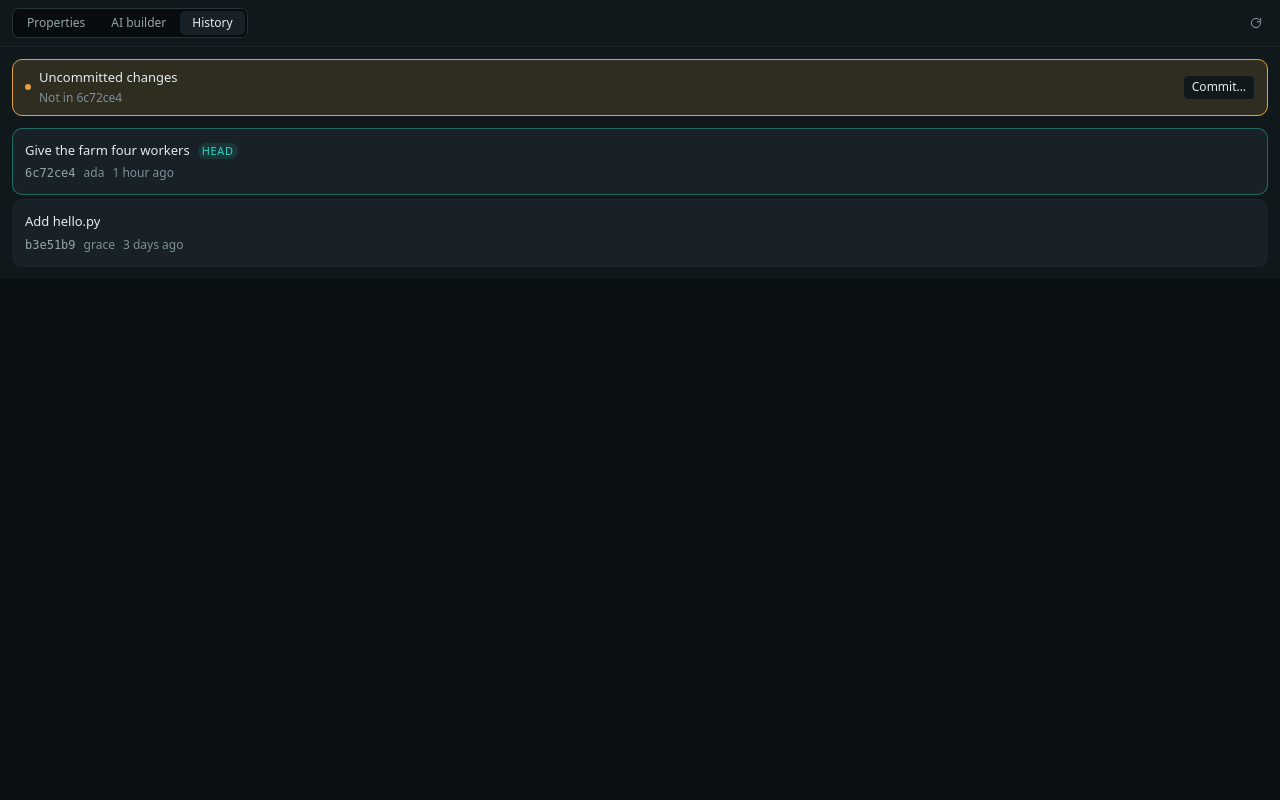
Scenario: the History tab › restores a version after a confirmation, and says it is not committed
Click the button "Add hello.py b3e51b9 grace 3 days ago".
click(63, 221)  # box [12,199,1268,266]
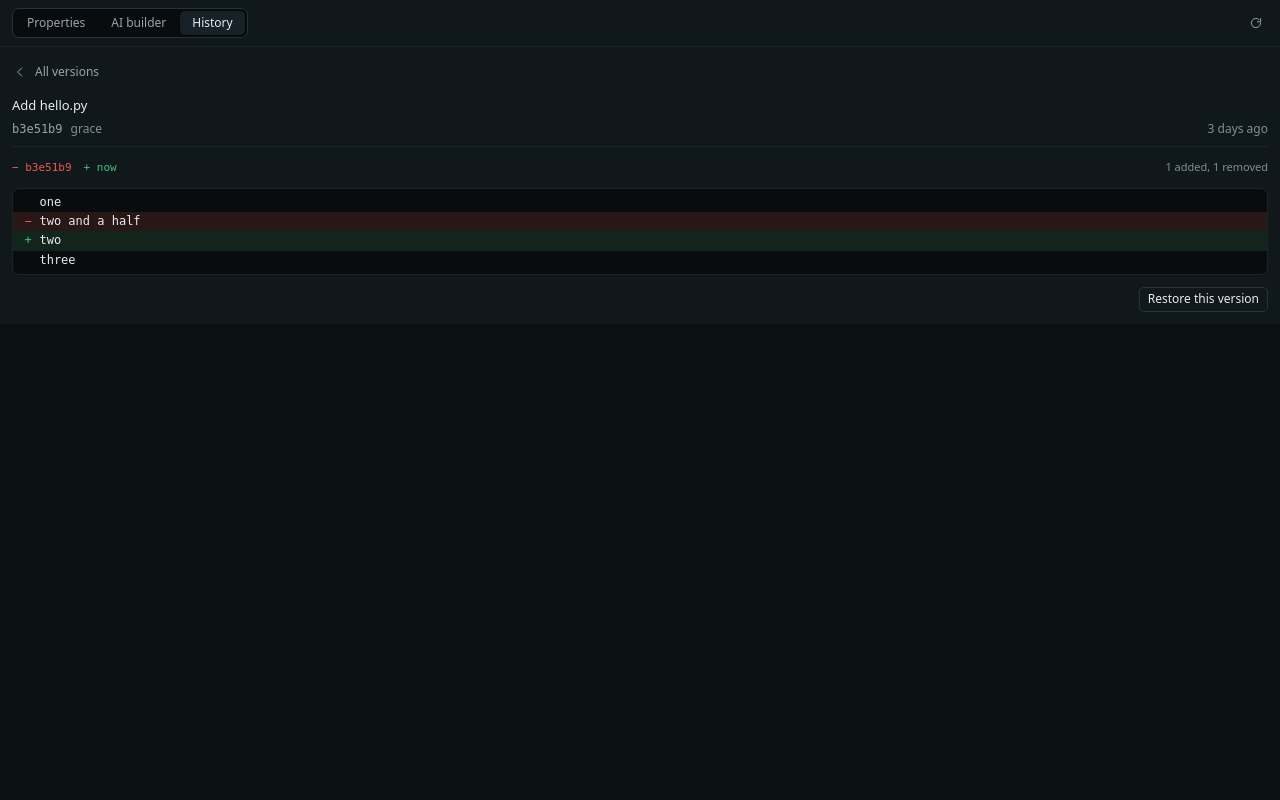
Click the button "Restore this version".
click(1203, 299)  # box [1139,287,1268,312]
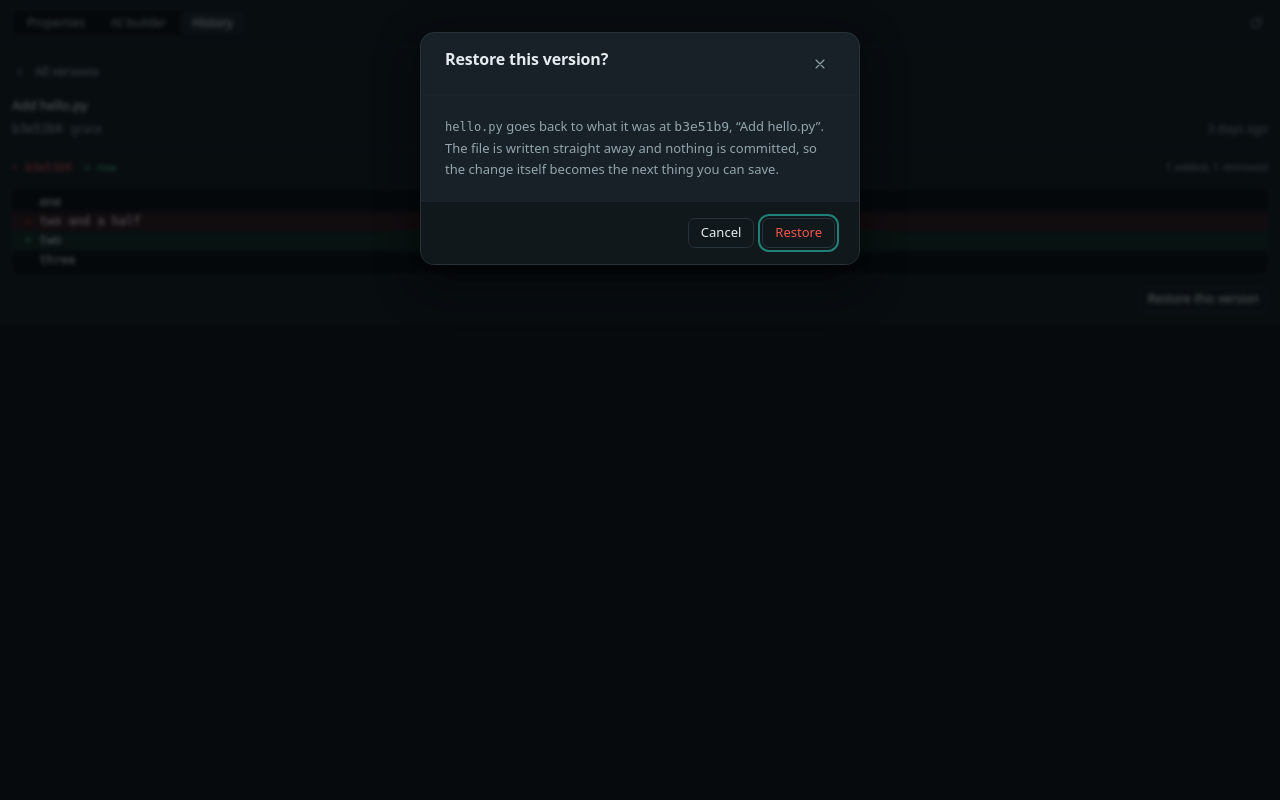
Click the button "Restore".
click(799, 233)  # box [762,218,835,248]
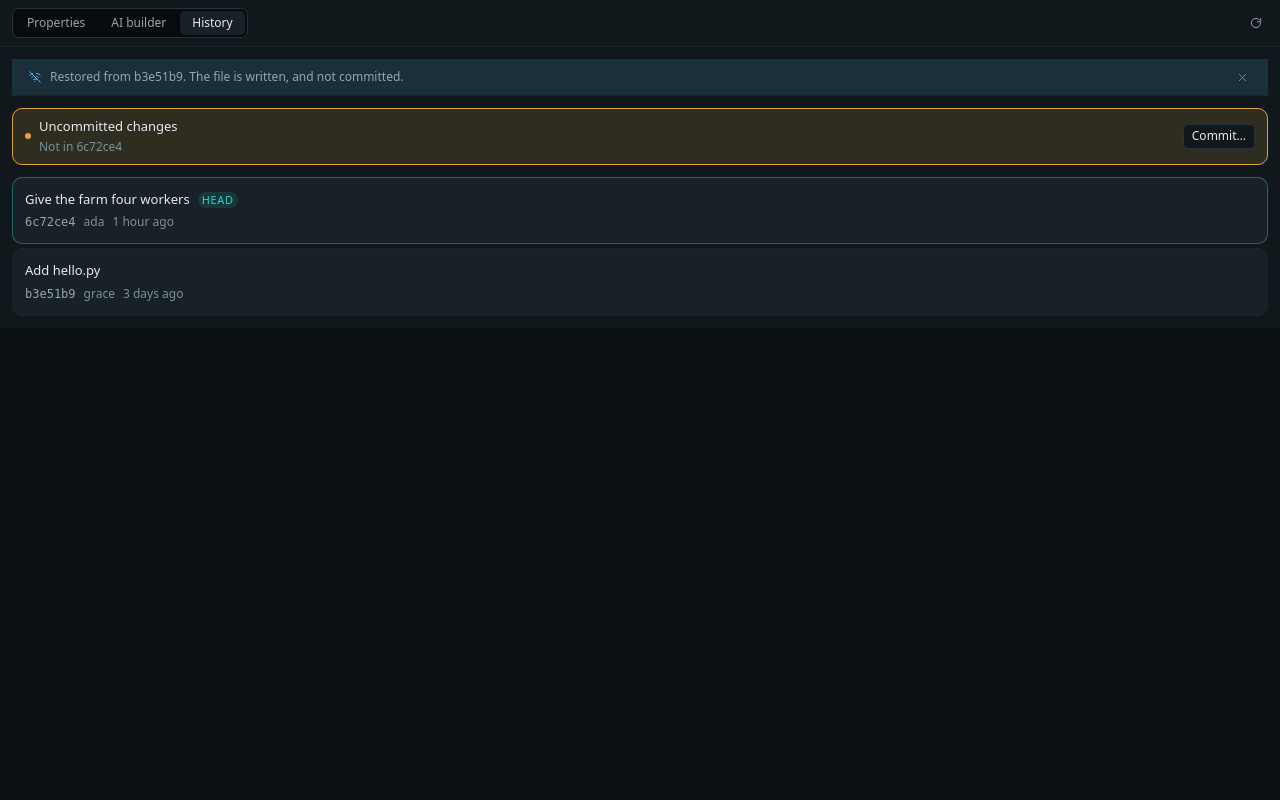
expect the text "Restored from b3e51b9. The file is written, and not committed." is shown: met, box [50,68,404,85]
